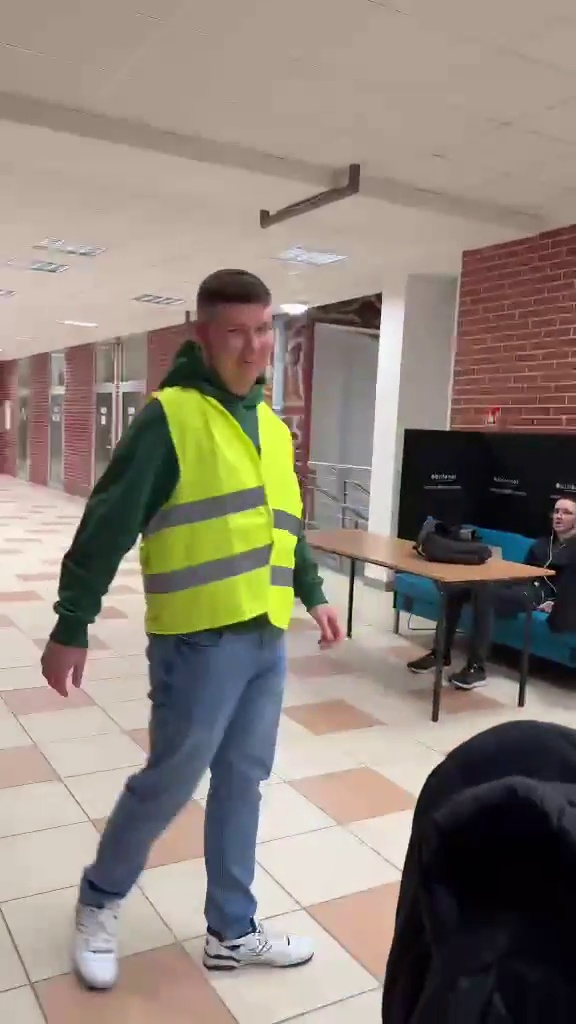no vest: (450, 479, 576, 640)
vest: (44, 265, 351, 982)
